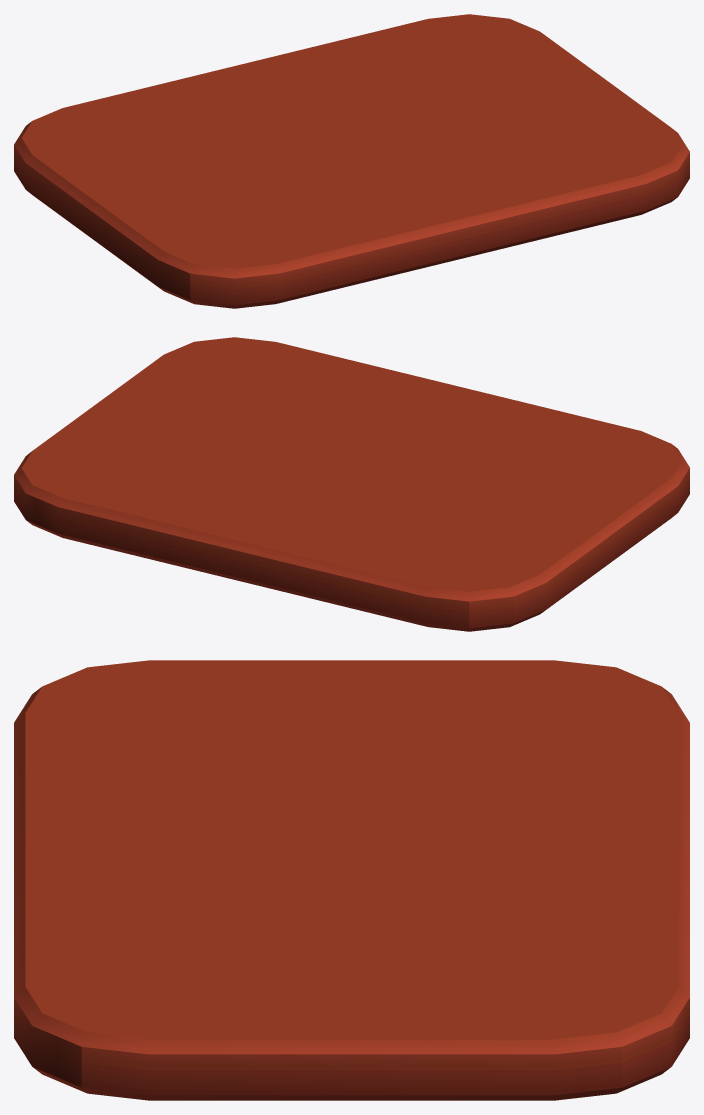
File: Jump.fbx
3 views of the same model, one above another, from view 1: azimuth 30°, elevation 25°; view 2: azimuth 150°, elevation 25°; view 3: azimuth 270°, elevation 25° (orthographic). The views are drawn at different scales.
Parts seen in each view (by area): view 1: Wall shelf; view 2: Wall shelf; view 3: Wall shelf.
Boxes of the visible parts, x1=… form: Wall shelf: x1=14, y1=14, x2=689, y2=308; Wall shelf: x1=14, y1=337, x2=689, y2=631; Wall shelf: x1=14, y1=660, x2=689, y2=1100.
Bounding box in the file's own units: 102 × 7.5 × 75.01.
1 material, 1 textured.
